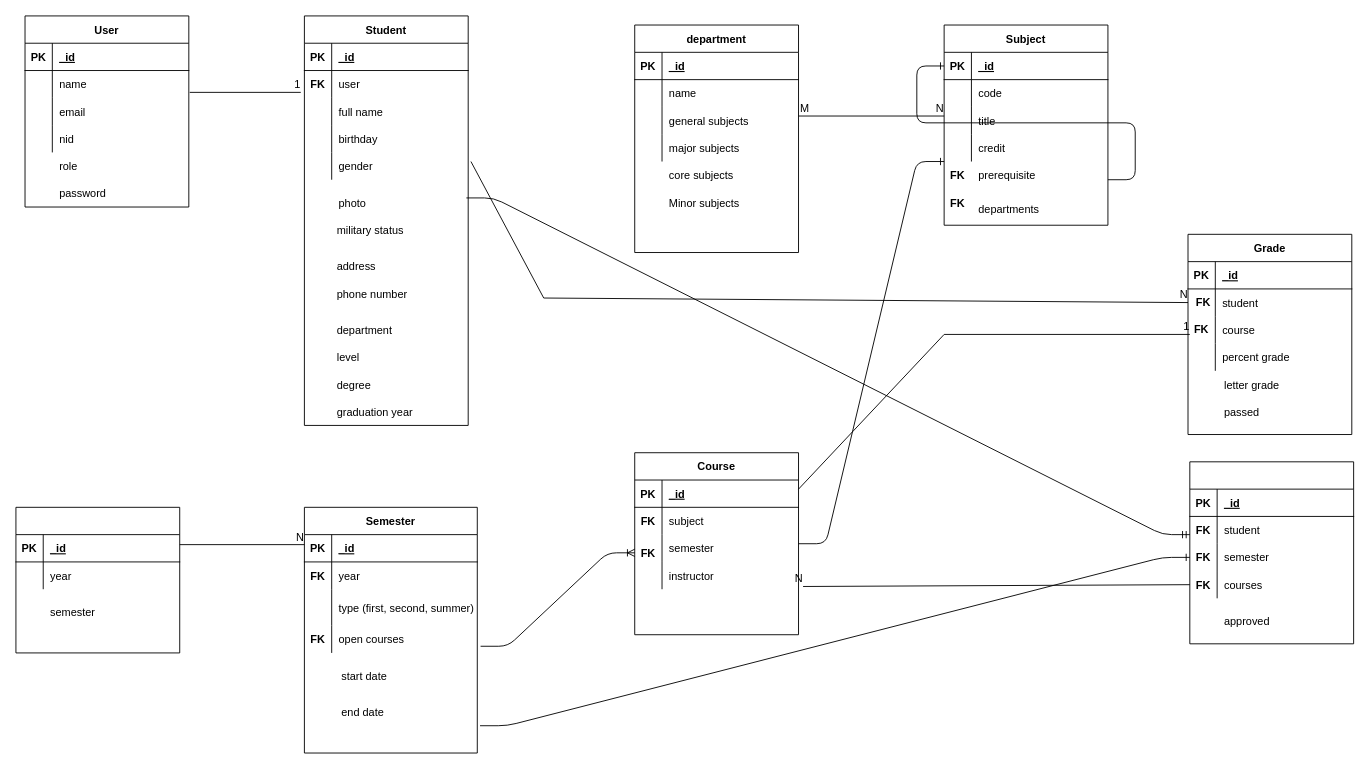
Image size: 1370x769. Some labels were removed from this diagram. Here are the shapes that lost their labels. From the top down, the box of each, then its label:
(1189, 461, 1354, 644): Enrollment
(15, 506, 180, 653): Academic Year
